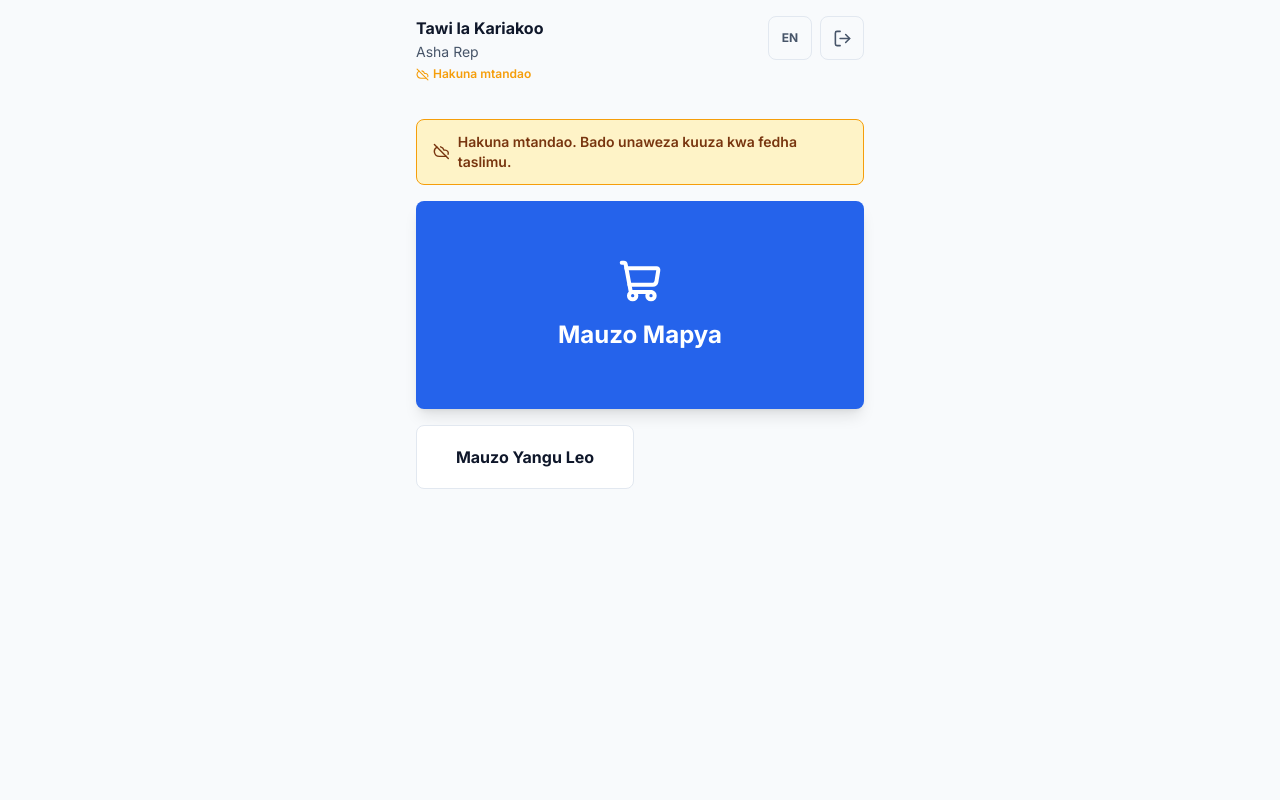
Test: CHAR-3: frequents count queued sales › bumps frequents for the cart productIds even though the sale only reached the queue
Click the button "Mauzo Mapya": [640, 304] box [416, 200, 864, 408]
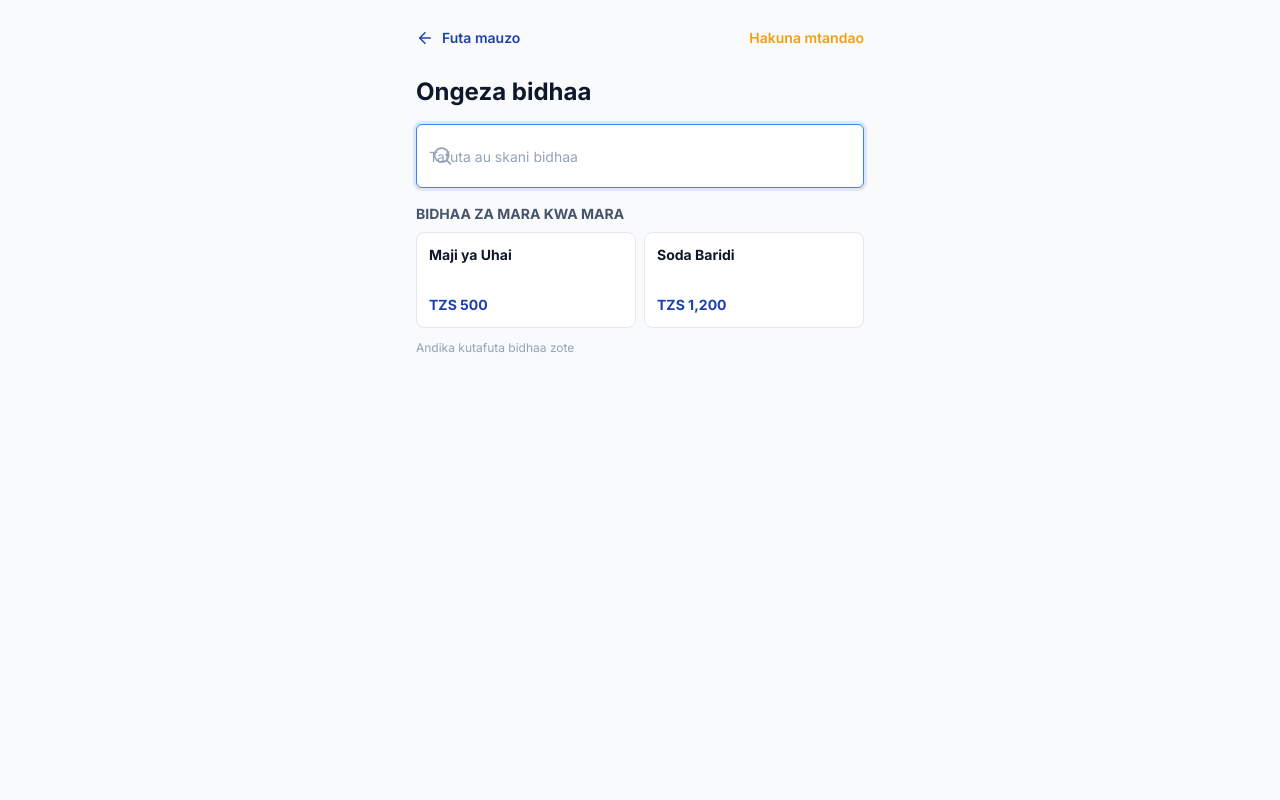
Now the heading "Ongeza bidhaa" is shown, box [416, 77, 591, 106]
Click the button "Soda Baridi TZS 1,200": [754, 280] box [644, 232, 864, 328]
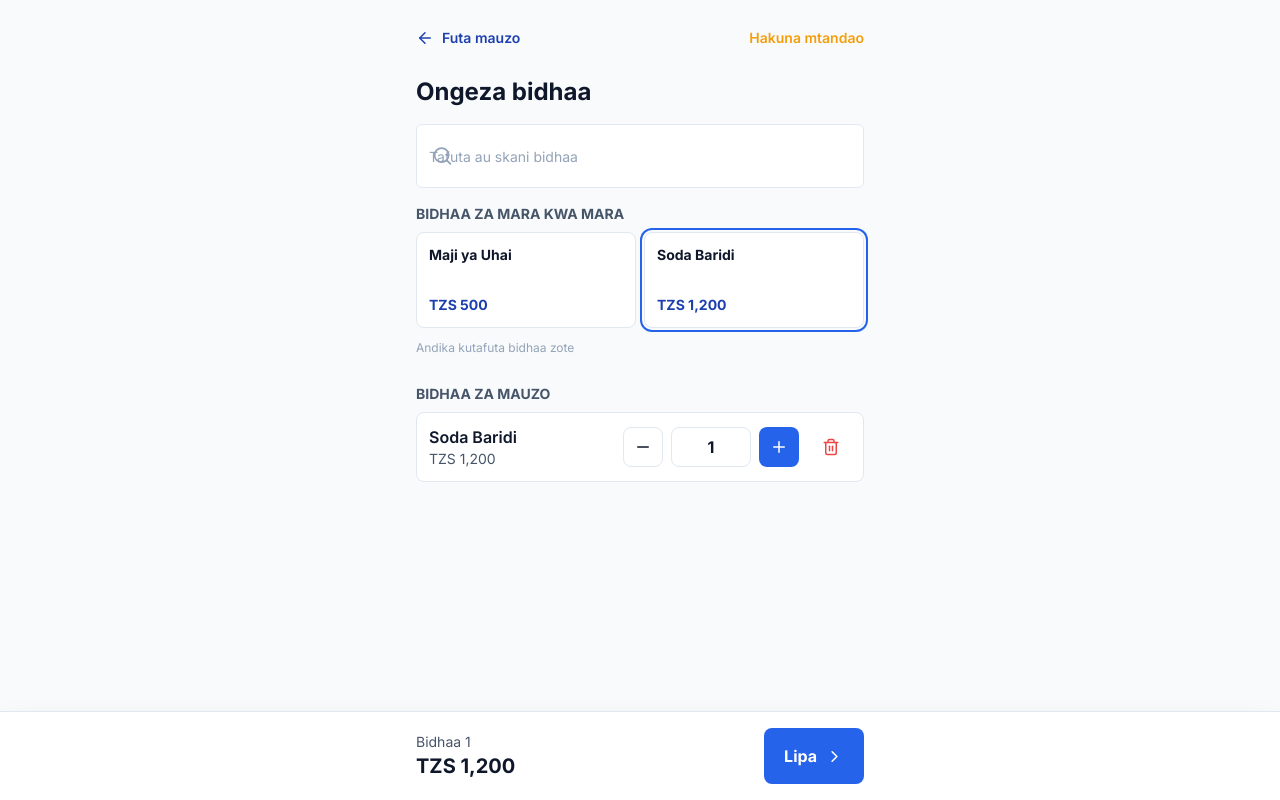
Click the button "Lipa": [814, 756] box [764, 728, 864, 784]
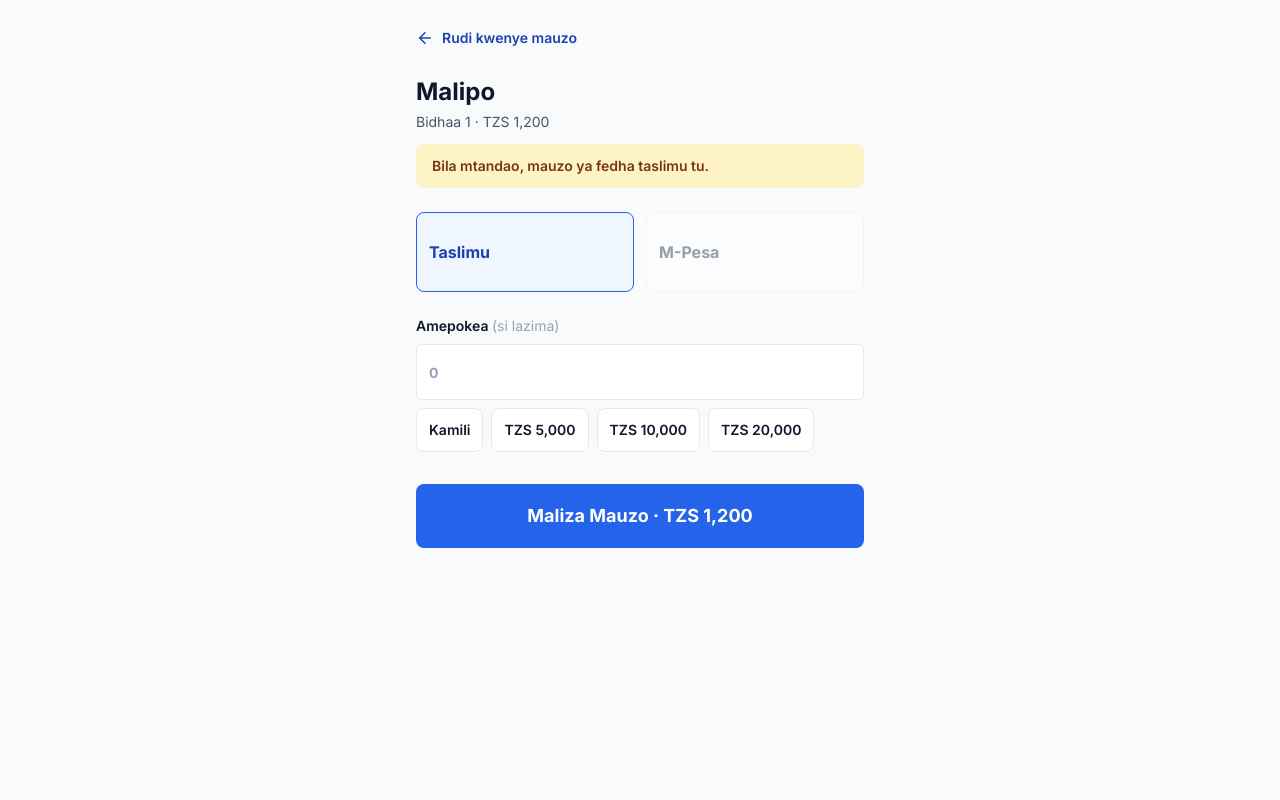
Now the heading "Malipo" is shown, box [416, 77, 495, 106]
Click the button "Maliza Mauzo · TZS 1,200": [640, 516] box [416, 484, 864, 548]
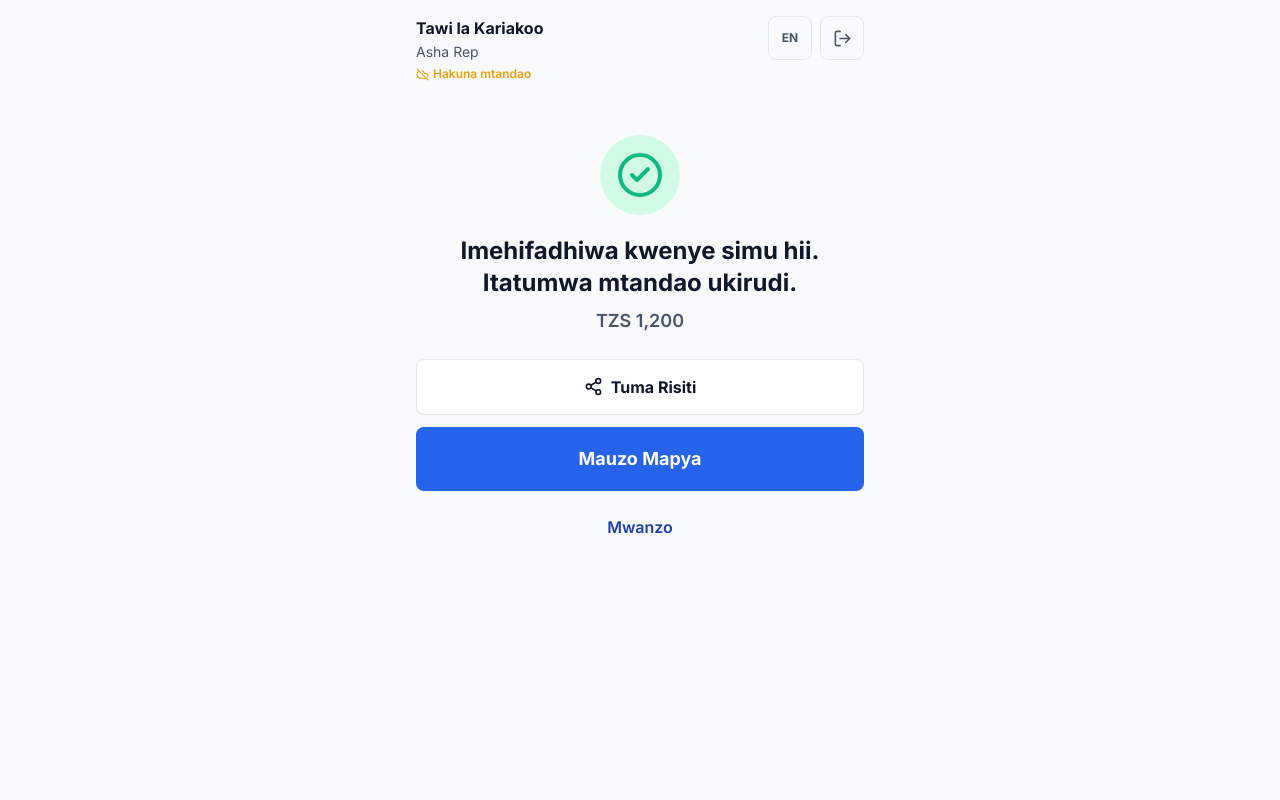
Now the heading "Imehifadhiwa kwenye simu hii. Itatumwa mtandao ukirudi." is shown, box [460, 236, 820, 296]
